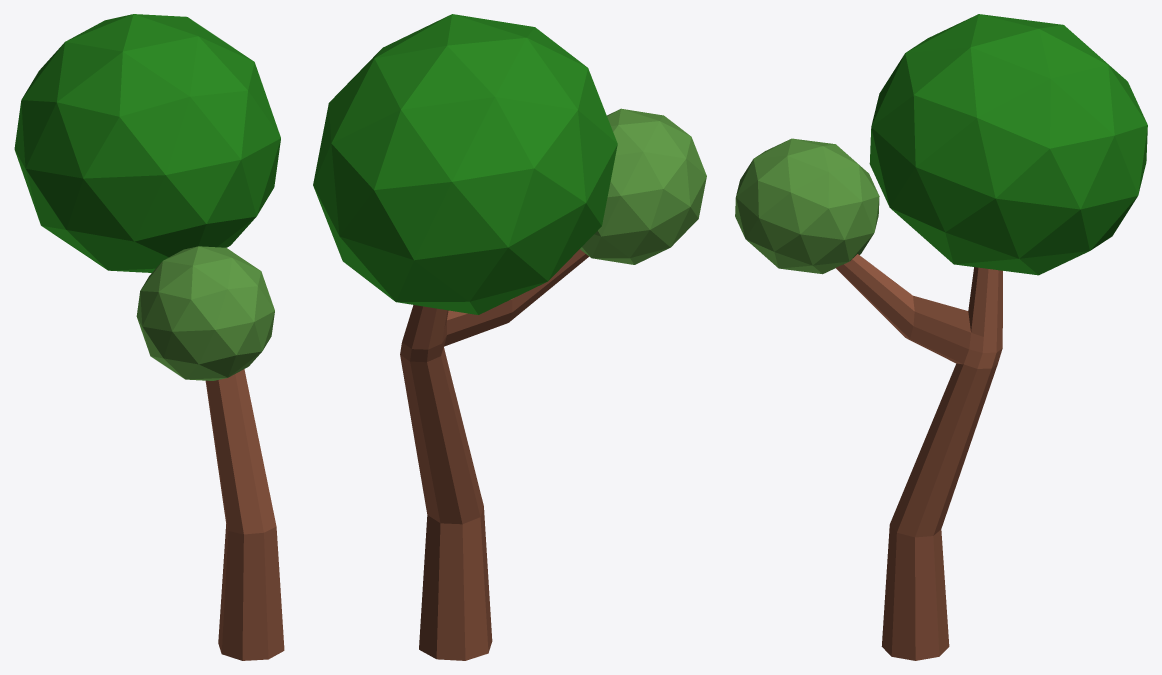
The model's file is Tree_02_summer_mat.fbx.
3 renders of one model, left to right at view 1: azimuth 30°, elevation 25°; view 2: azimuth 150°, elevation 25°; view 3: azimuth 270°, elevation 25°, orthographic. The views are drawn at different scales.
Parts seen in each view (by area): view 1: Tree_02_summer_mat; view 2: Tree_02_summer_mat; view 3: Tree_02_summer_mat.
Part boxes in pixels (x1,y1,x2,y2): Tree_02_summer_mat: (14,14,284,660); Tree_02_summer_mat: (313,14,706,660); Tree_02_summer_mat: (735,14,1147,660).
Size of the model in its own units: 2.86 by 7.09 by 4.49.
